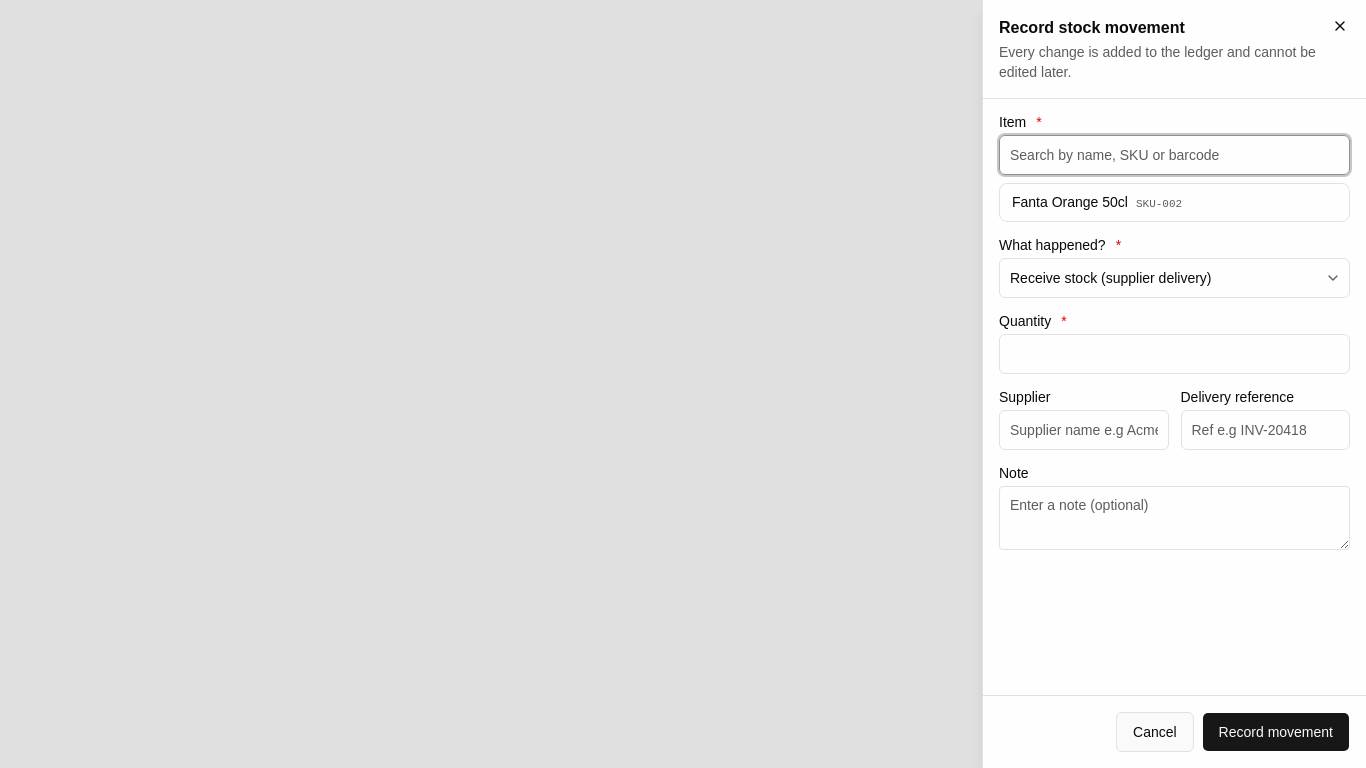
Test: RecordMovementDrawer › searches for and selects an item when none was preselected
Type "fan" into the field labelled "Item" at (1174, 155), box x1=1000 y1=135 x2=1349 y2=175
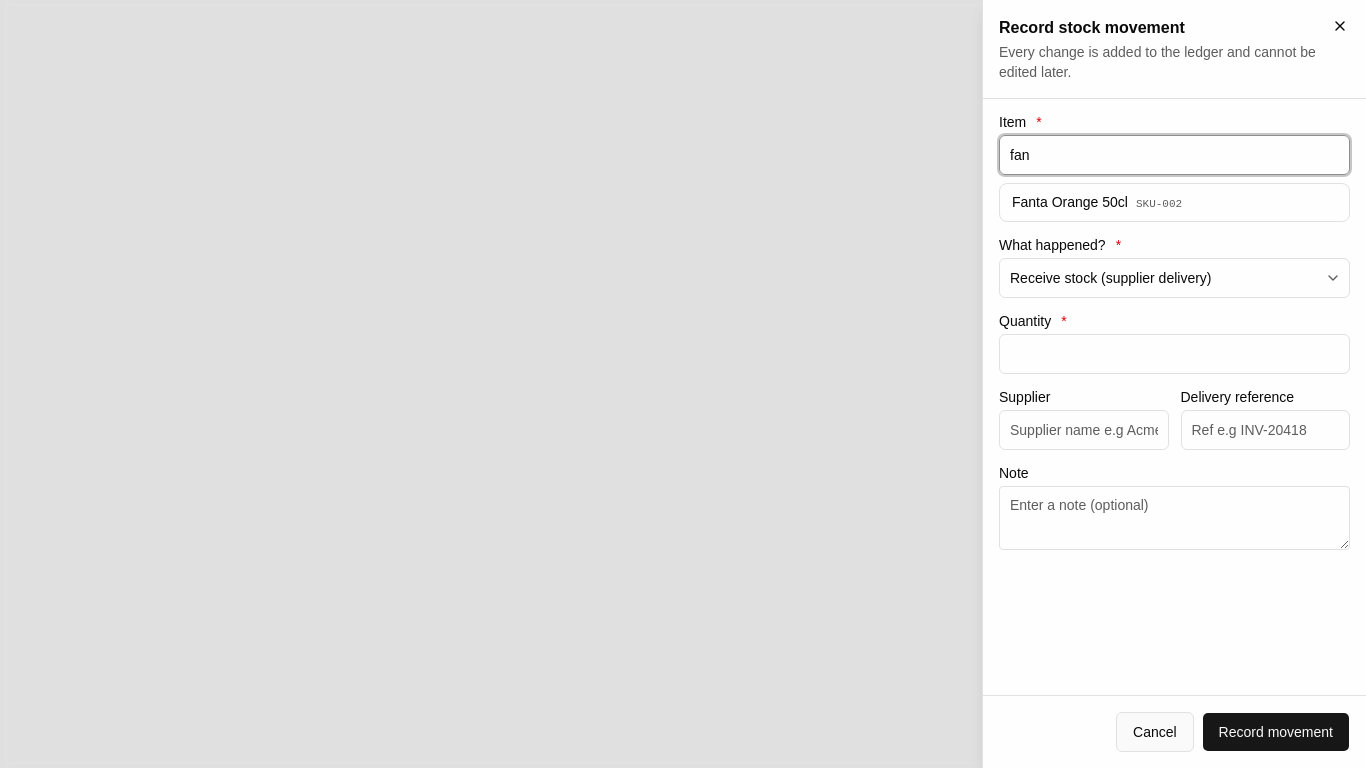
Expected: the text "SKU-002" is shown, x1=1136 y1=198 x2=1182 y2=210
Click the button "Fanta Orange 50cl" at (1174, 202), box x1=1000 y1=184 x2=1349 y2=221
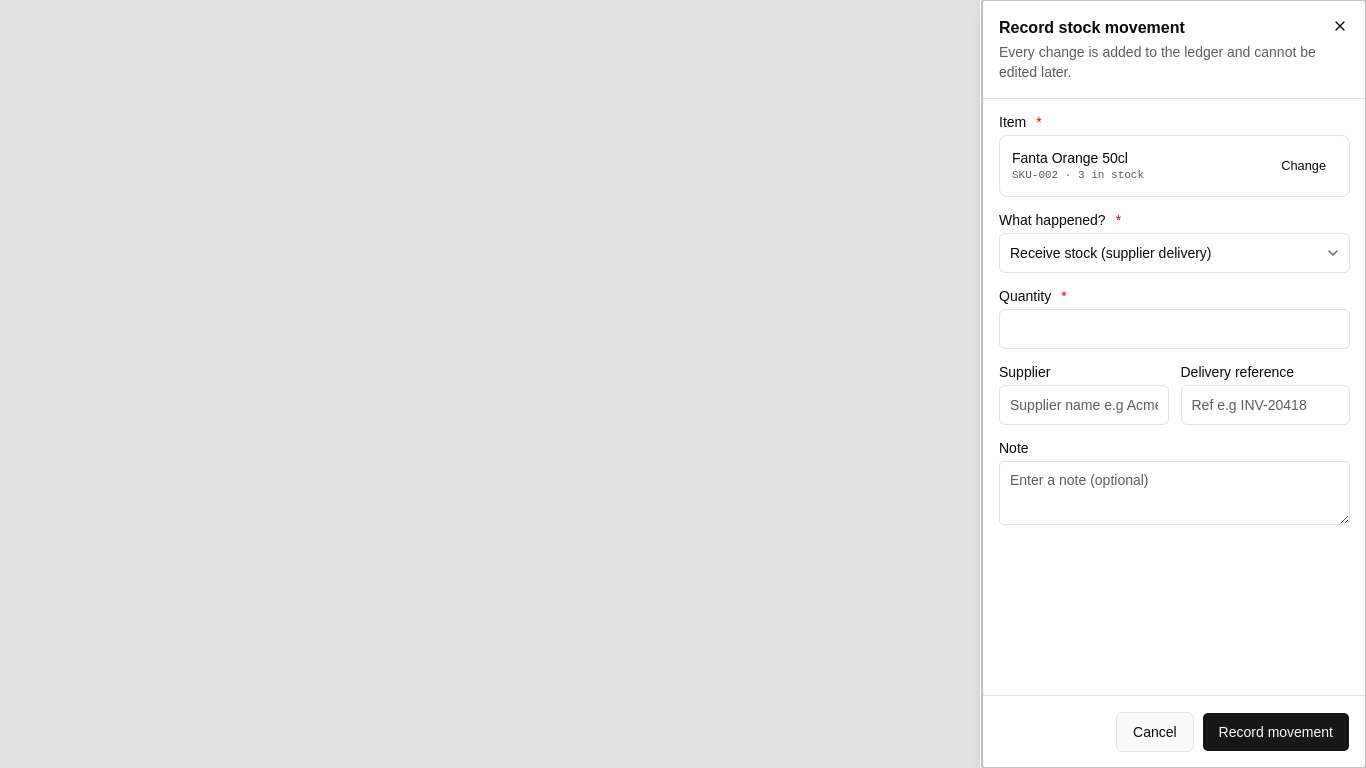
Expected: the text "Fanta Orange 50cl" is shown, x1=1012 y1=148 x2=1144 y2=168
Now the button "Change" is shown, box x1=1270 y1=152 x2=1337 y2=180
